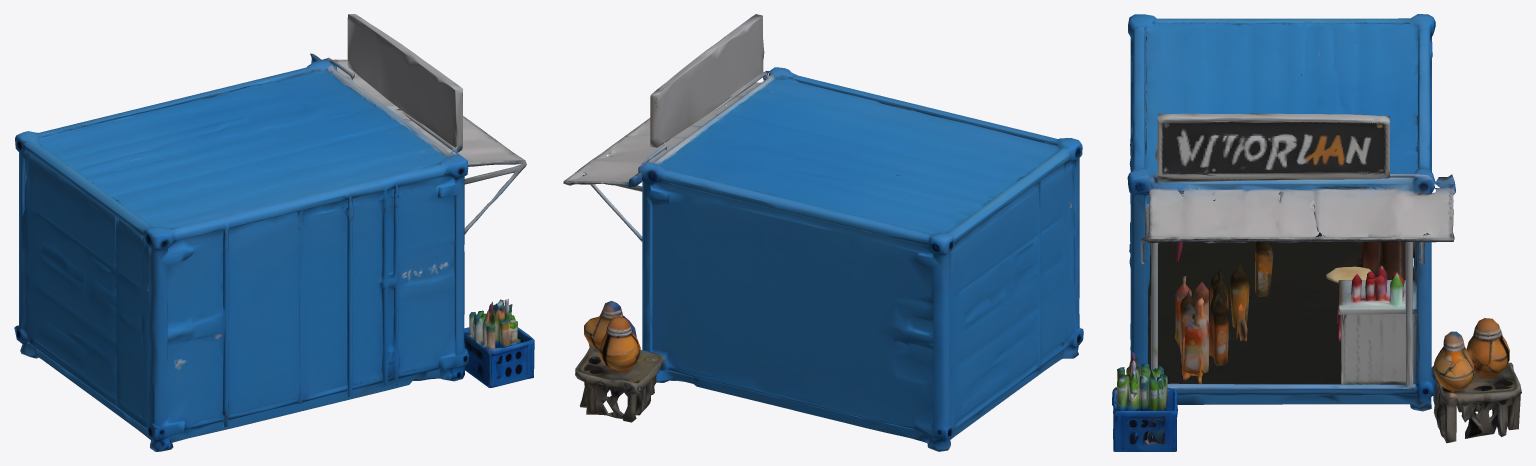
File: kiosk.glb
3 views of the same model, side by side, from view 1: azimuth 30°, elevation 25°; view 2: azimuth 150°, elevation 25°; view 3: azimuth 270°, elevation 25° (orthographic). The views are drawn at different scales.
Parts seen in each view (by area): view 1: tripo_node_81110404-1ffa-4a4c-a3ef-de8f0142b273; view 2: tripo_node_81110404-1ffa-4a4c-a3ef-de8f0142b273; view 3: tripo_node_81110404-1ffa-4a4c-a3ef-de8f0142b273.
Boxes of the visible parts, bbox=[...] form: tripo_node_81110404-1ffa-4a4c-a3ef-de8f0142b273: bbox=[14, 14, 534, 451]; tripo_node_81110404-1ffa-4a4c-a3ef-de8f0142b273: bbox=[563, 14, 1083, 451]; tripo_node_81110404-1ffa-4a4c-a3ef-de8f0142b273: bbox=[1112, 14, 1521, 451].
Bounding box in the file's own units: 3.46 × 2.5 × 3.
Materials: 1 (1 with a texture image).
